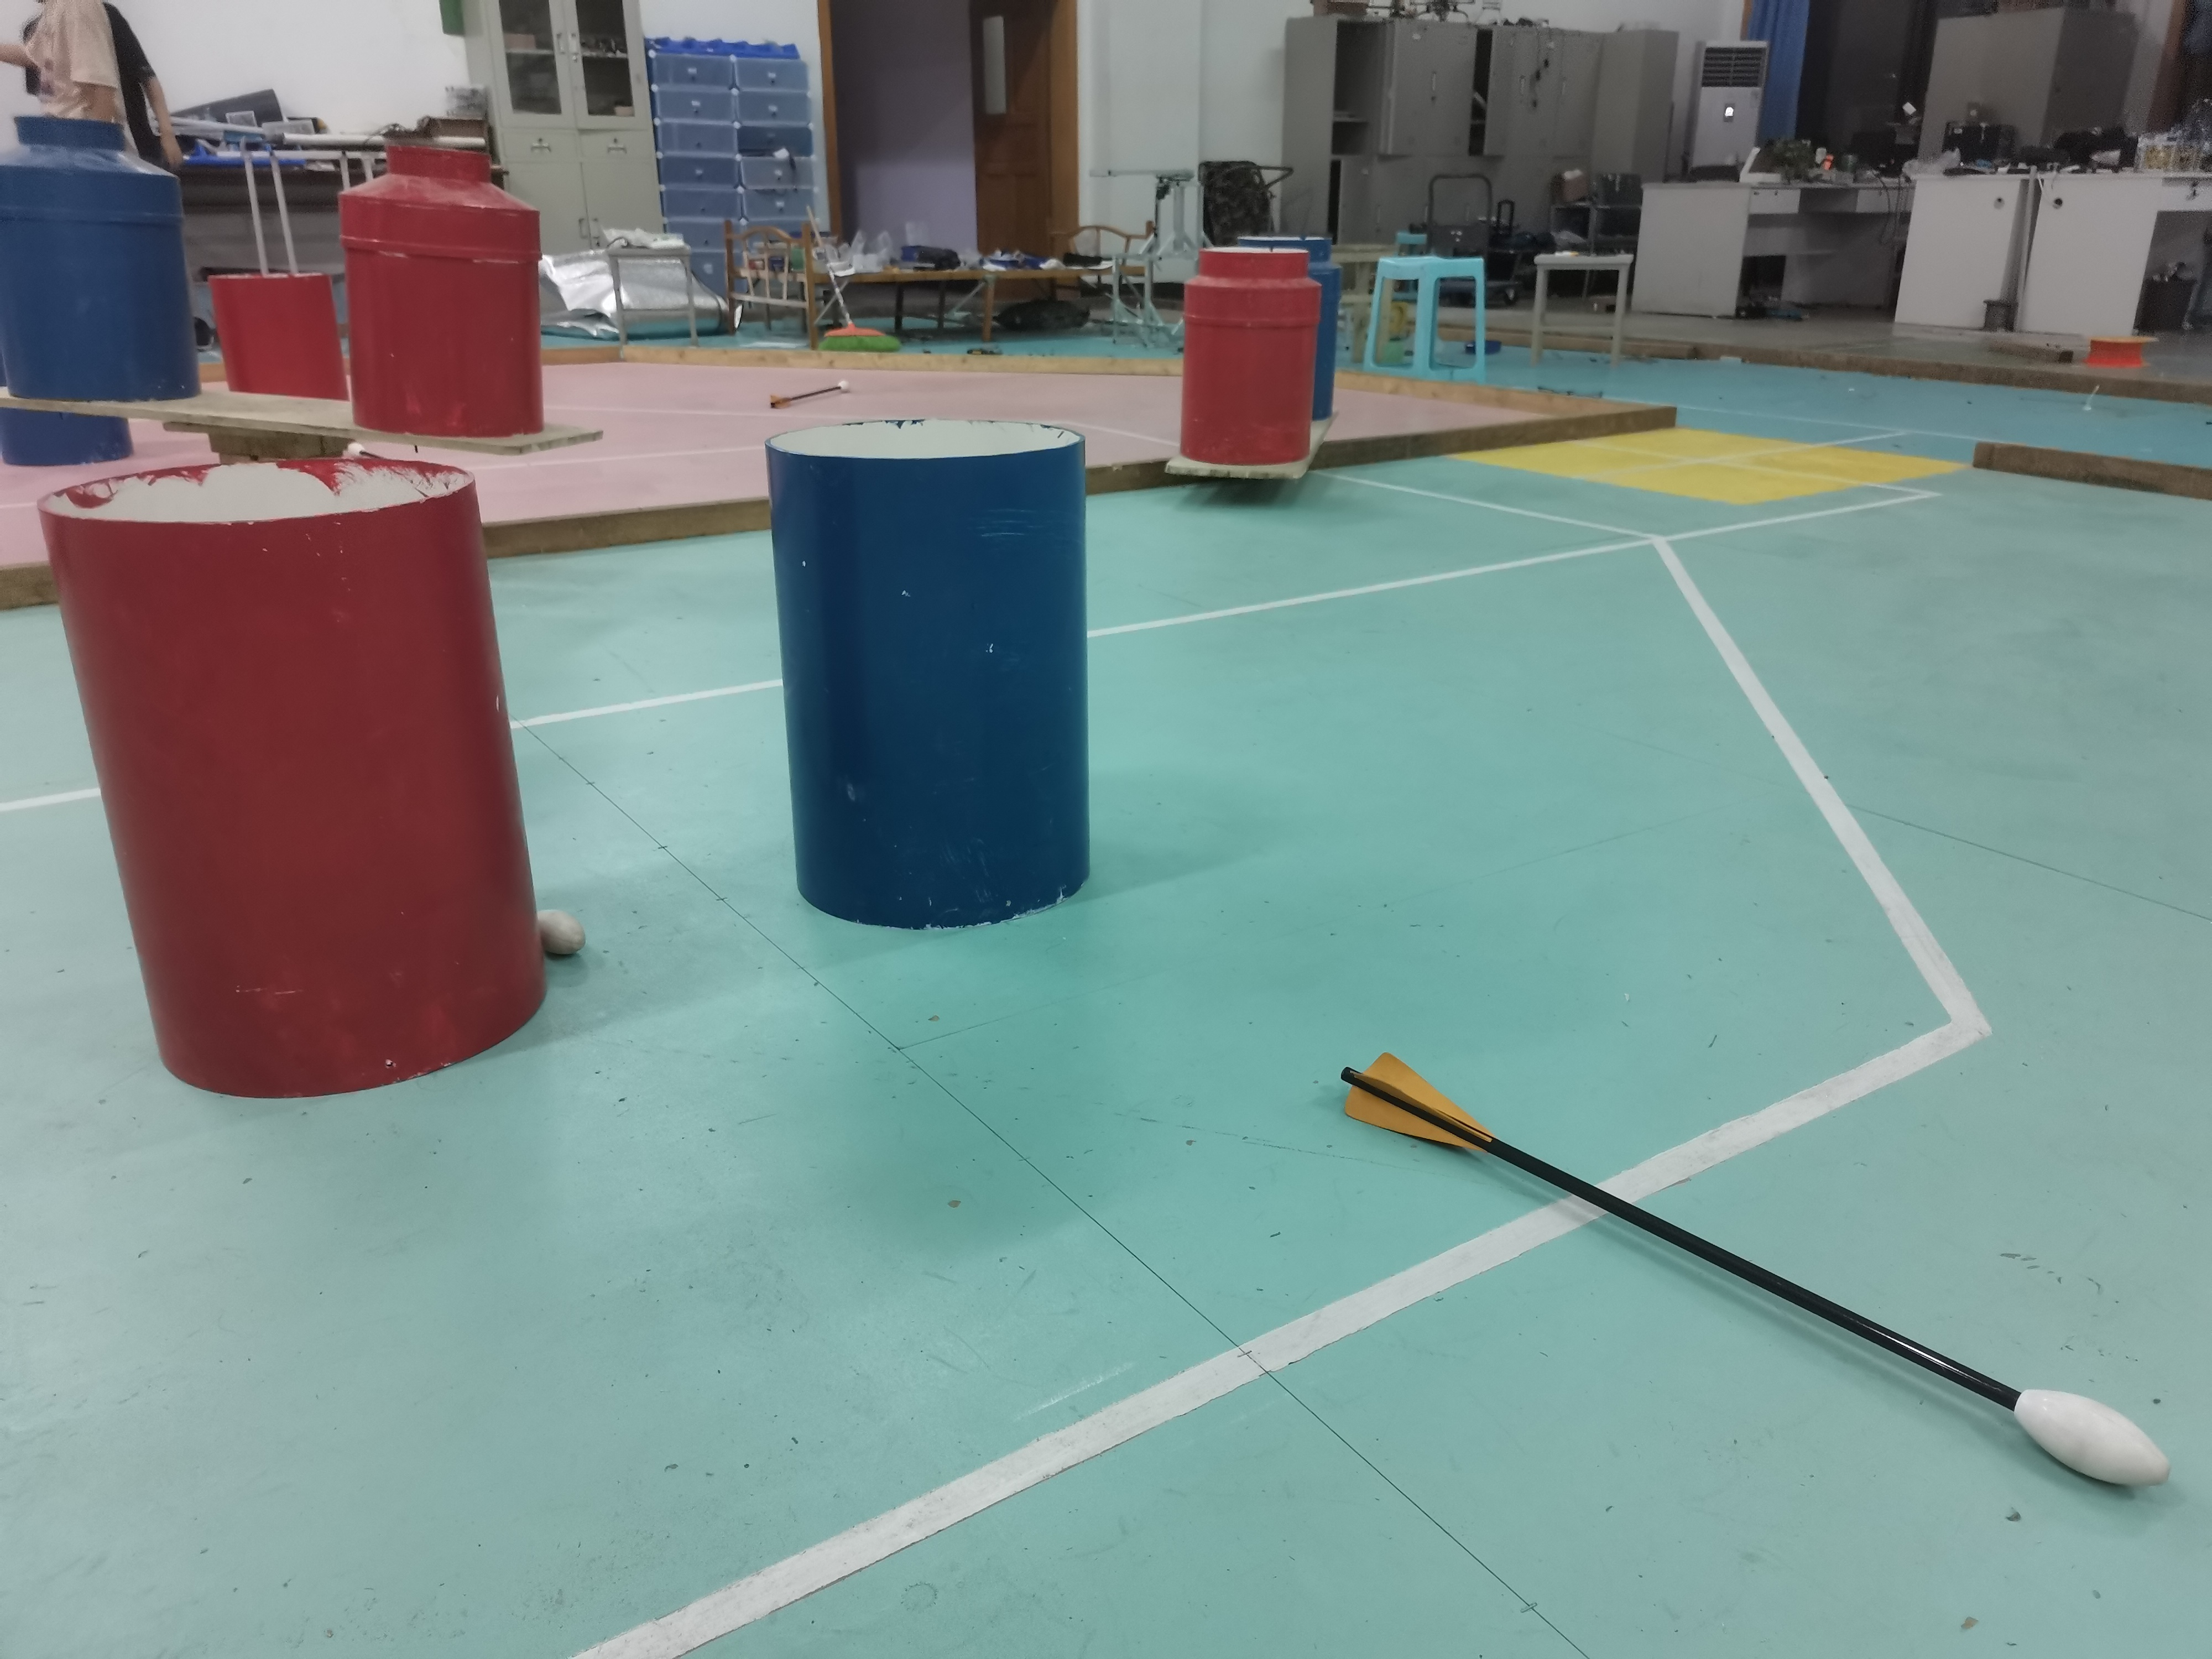arrow: (1339, 1049, 2181, 1499), (770, 380, 852, 410)
arrowFront: (2017, 1382, 2191, 1492), (538, 906, 585, 957), (838, 380, 852, 390)
blueBucket: (768, 422, 1096, 931), (0, 117, 202, 404)
redBucket: (38, 462, 554, 1082), (338, 141, 545, 439), (1179, 246, 1320, 467), (209, 270, 348, 397)
